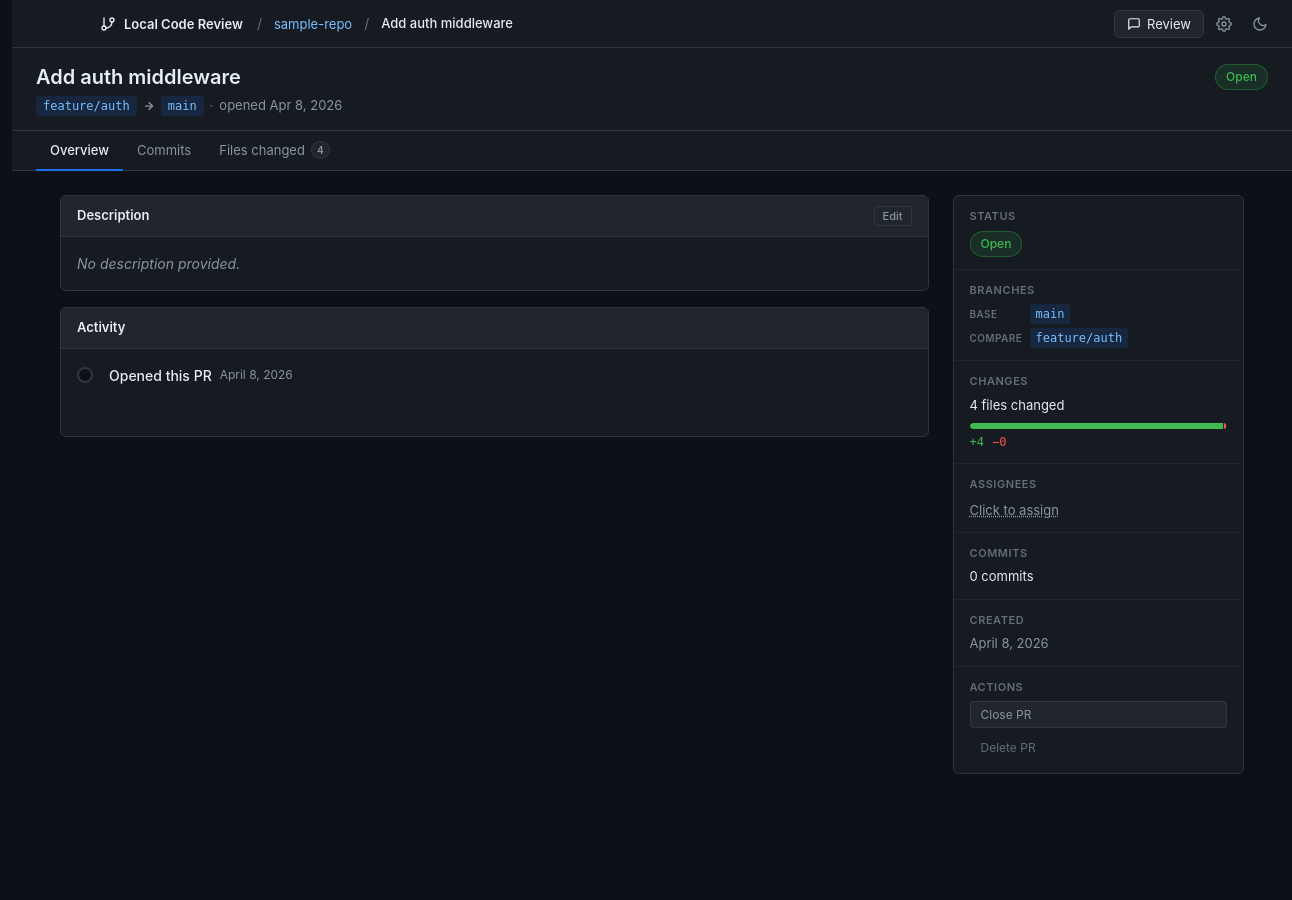
Test: PR files changed filter › tells the user when no file matches
Click the button "Files changed 4" at (274, 151), box [205,131,344,171]
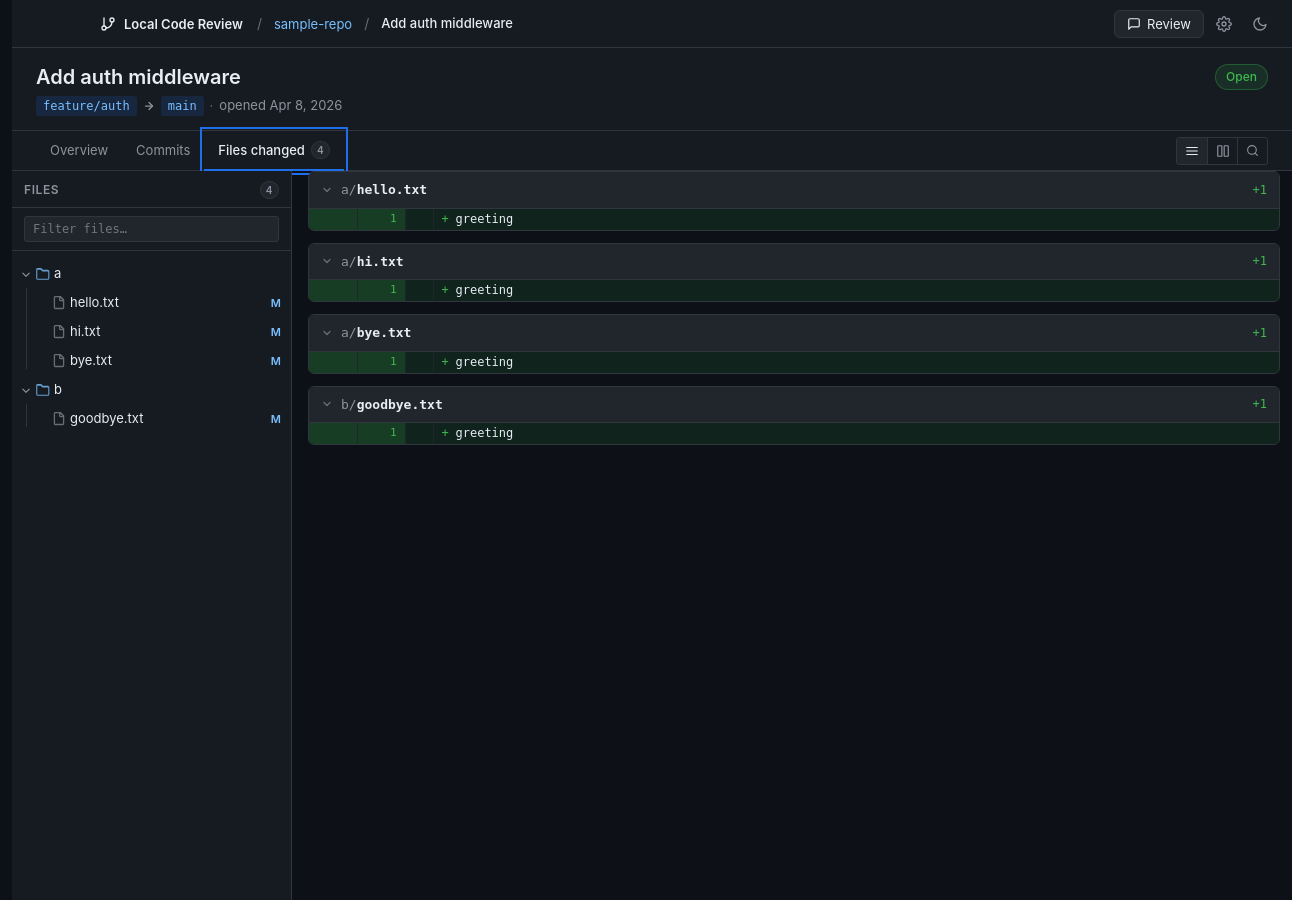
Type "nothing-here" into the search field named "Filter changed files" at (152, 229), box [24,216,279,242]
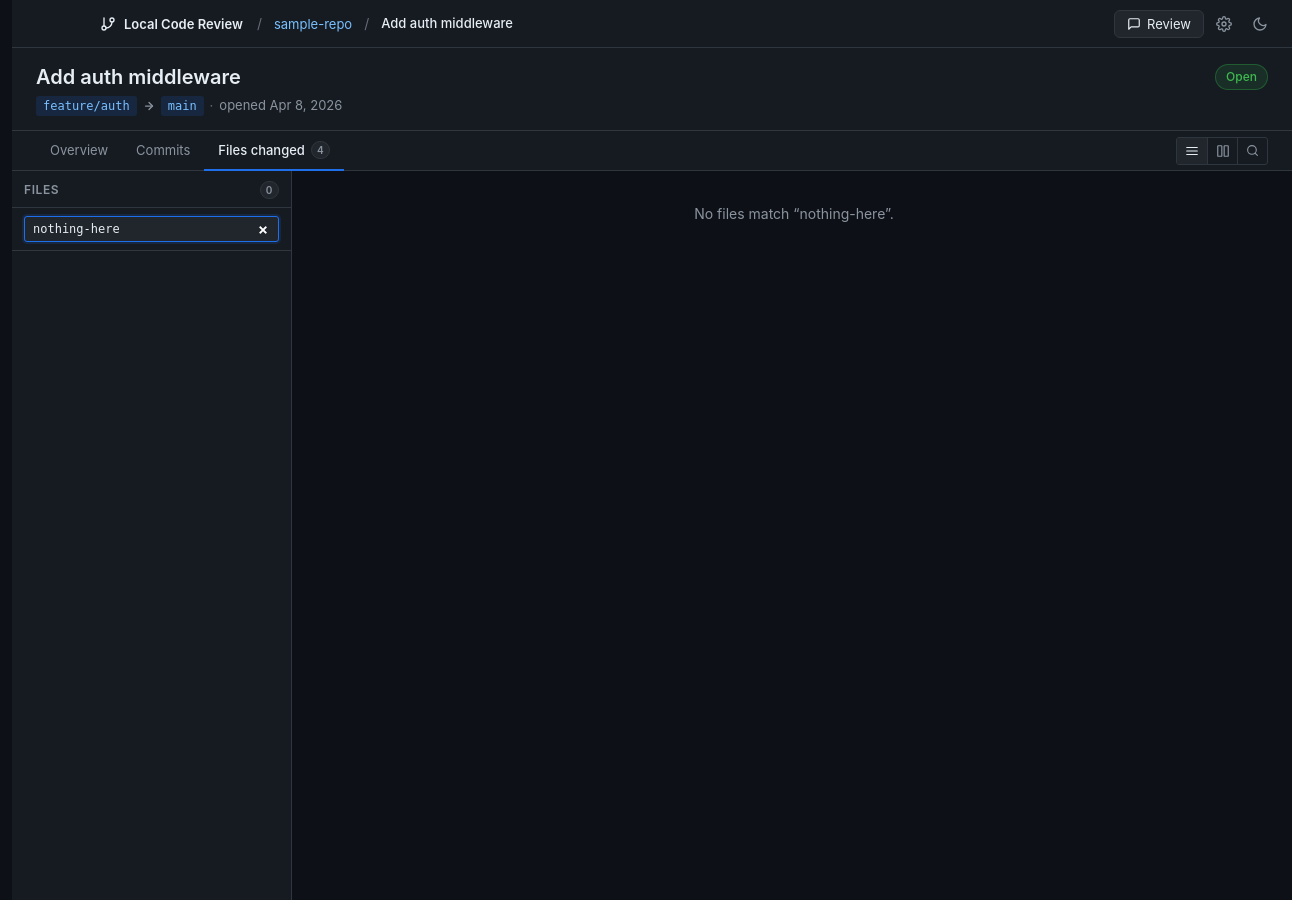
Check: the text "No files match “nothing-here”." is shown, box [694,205,894,222]
